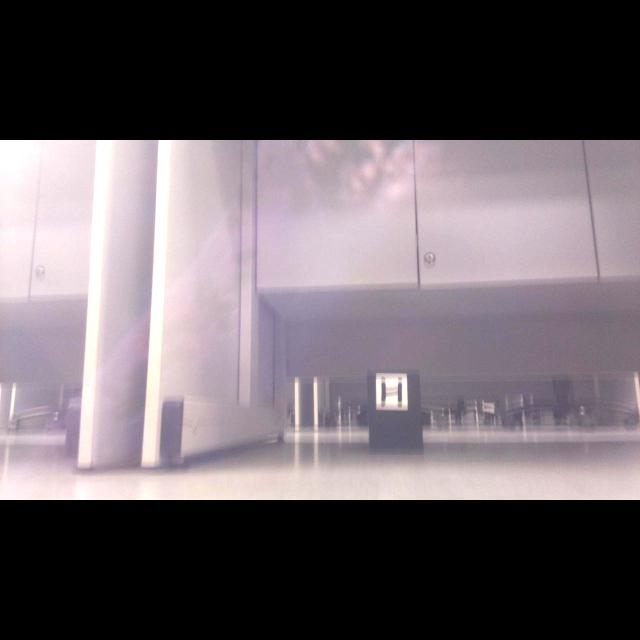H: (381, 377, 402, 408)
